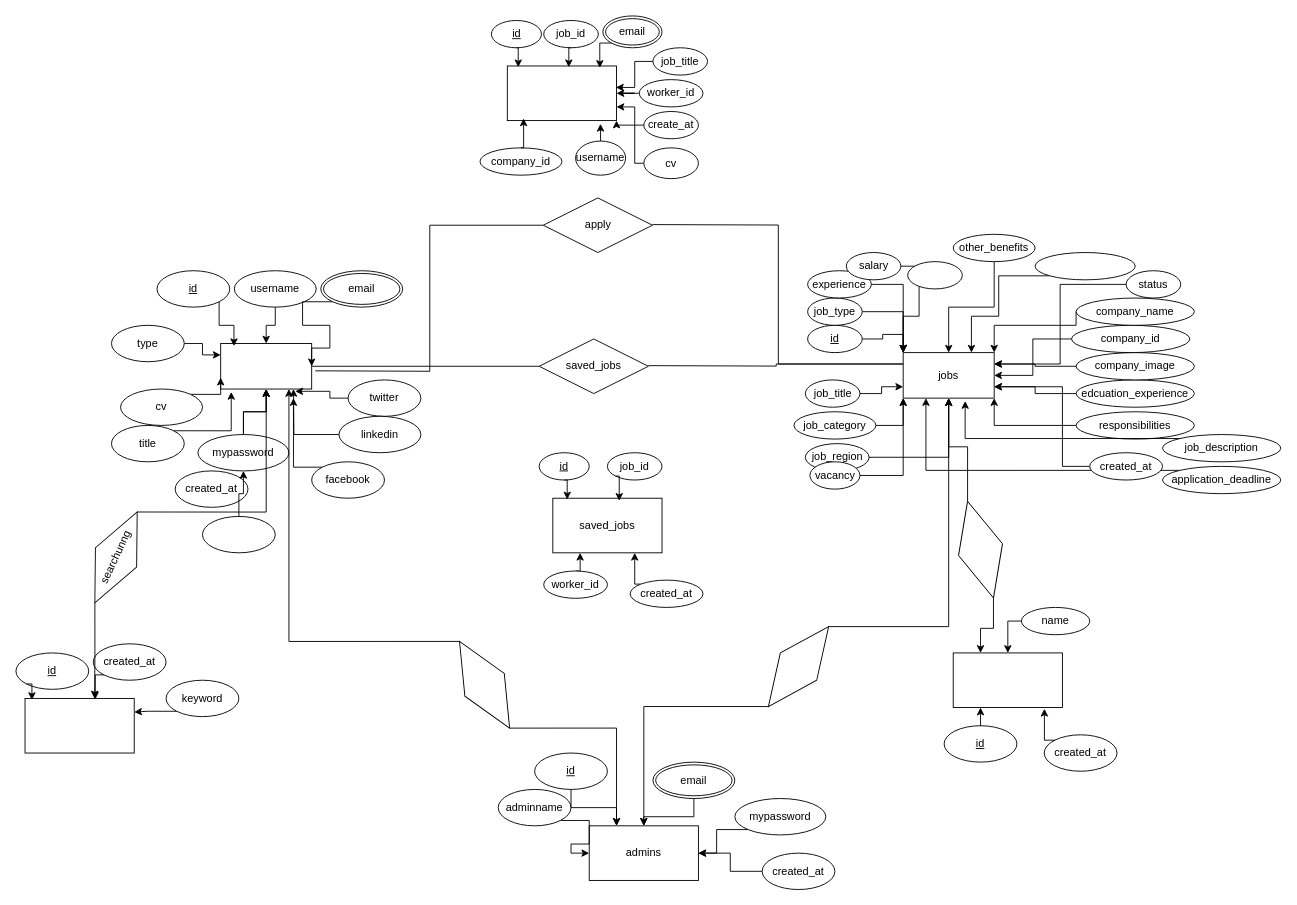
Some shapes in this 1297 by 905 pixel diagram are drawn without their labels. Each missing label, with the centre of its shape:
"bio" goes at (x=238, y=534).
"categories" goes at (x=1007, y=680).
"company_email" goes at (x=1084, y=266).
"divides" goes at (x=980, y=549).
"gender" goes at (x=934, y=275).
"information" goes at (x=484, y=684).
"job_applications" goes at (x=561, y=93).
"searches" goes at (x=79, y=725).
"users" goes at (x=266, y=366).
"verify" goes at (x=798, y=666).
